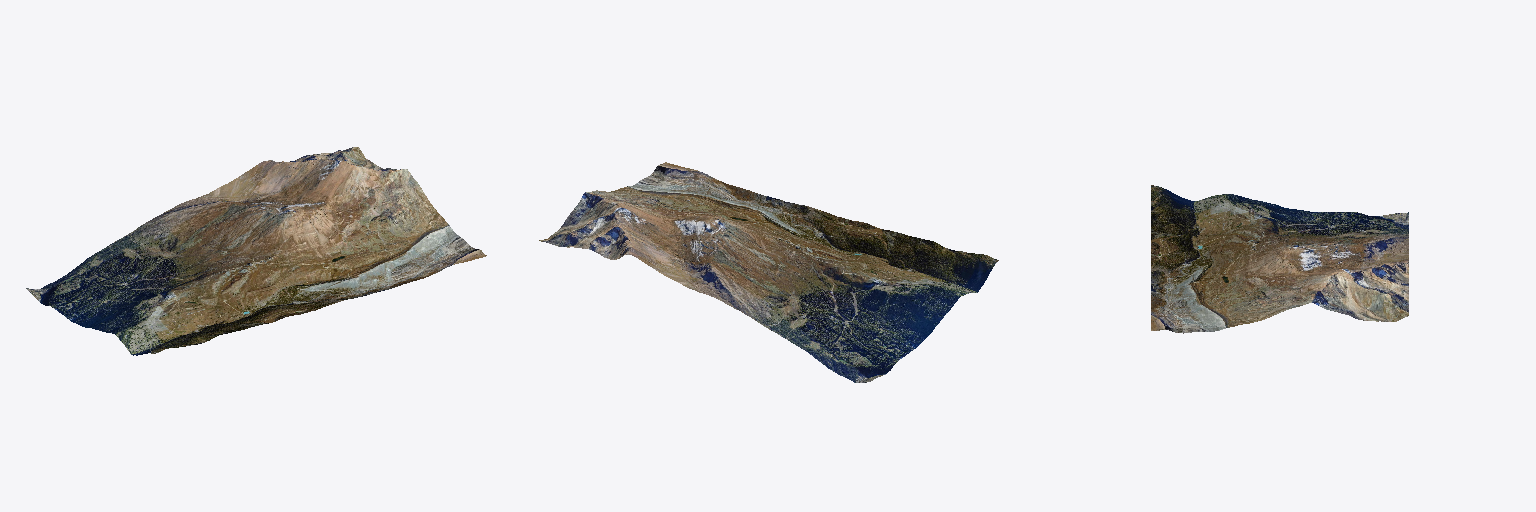
The picture shows the model from 3 angles: view 1: azimuth 30°, elevation 25°; view 2: azimuth 150°, elevation 25°; view 3: azimuth 270°, elevation 25°; orthographic projection.
Visible parts, largest first — view 1: EXPORT_GOOGLE_SAT_WM.023; view 2: EXPORT_GOOGLE_SAT_WM.023; view 3: EXPORT_GOOGLE_SAT_WM.023.
Boxes of the visible parts, x1=… form: EXPORT_GOOGLE_SAT_WM.023: x1=26, y1=147, x2=486, y2=355; EXPORT_GOOGLE_SAT_WM.023: x1=539, y1=162, x2=998, y2=382; EXPORT_GOOGLE_SAT_WM.023: x1=1151, y1=185, x2=1408, y2=333.
Bounding box in the file's own units: 9124 × 2249 × 6083.
1 materials, 1 textured.